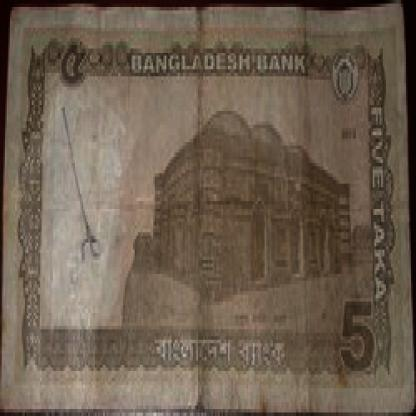Five Taka: (364, 97, 394, 302), (336, 291, 380, 378), (55, 42, 93, 86)
